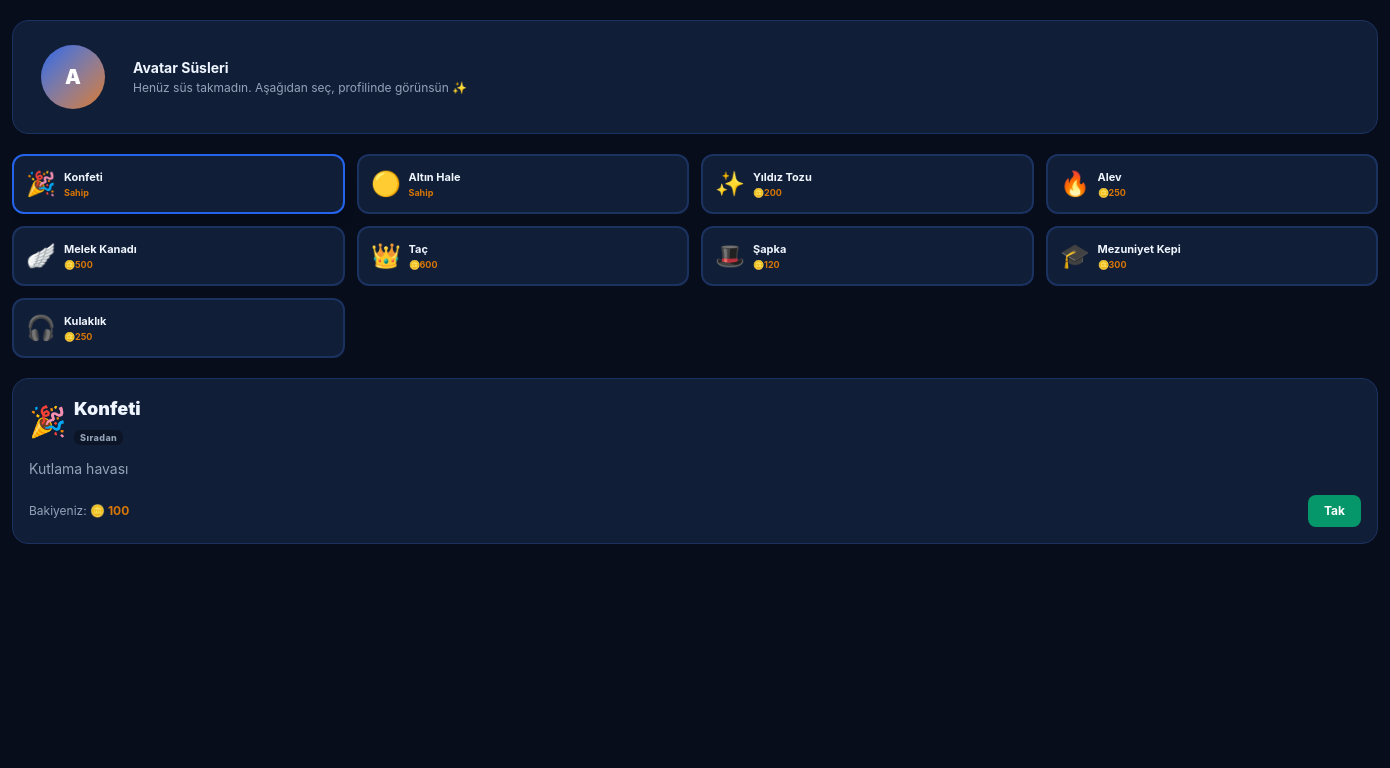
Test case: AvatarDecorationStoreClient › yetersiz coin: sahipsiz ücretli süs butonu disabled
The width and height of the screenshot is (1390, 768).
Click the button with aria-label "Taç önizleme" at [386, 256], box [356,226,689,286]
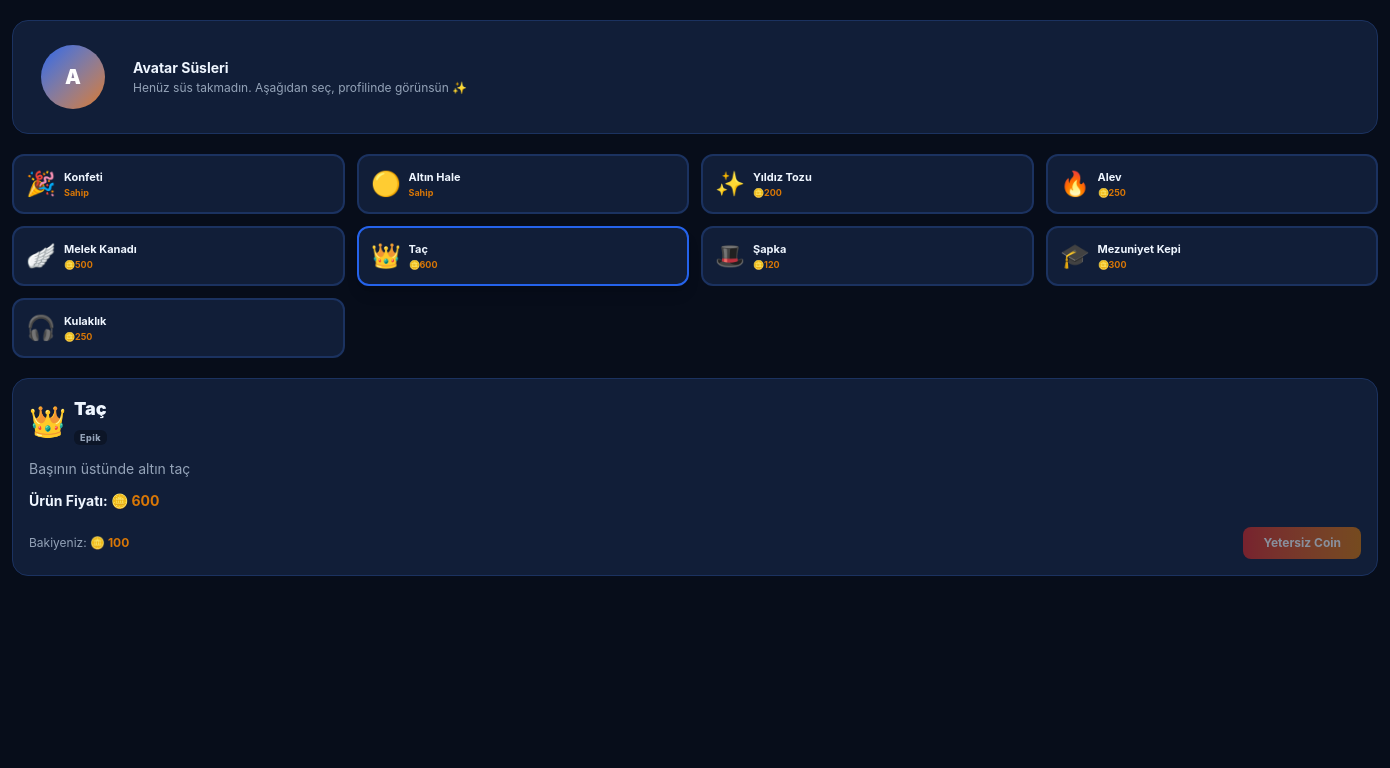
Expected: the button "Yetersiz Coin" is disabled, [1243,527,1361,559]
